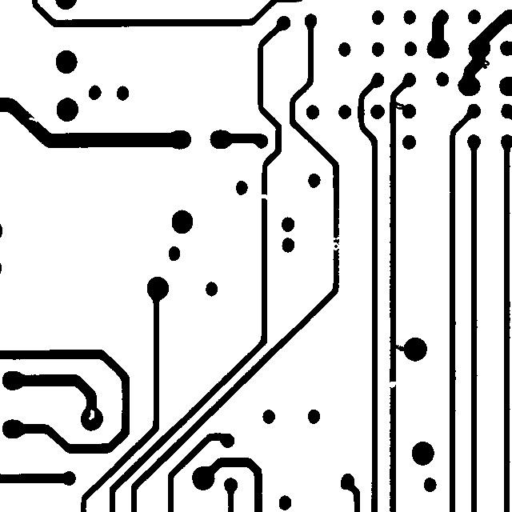mousebite: (21, 110, 45, 130)
open: (321, 229, 348, 258), (379, 372, 406, 395), (250, 186, 277, 207)
pin-hole: (81, 402, 102, 427)
short: (385, 337, 428, 359), (386, 95, 412, 114)
spur: (471, 52, 497, 76)
